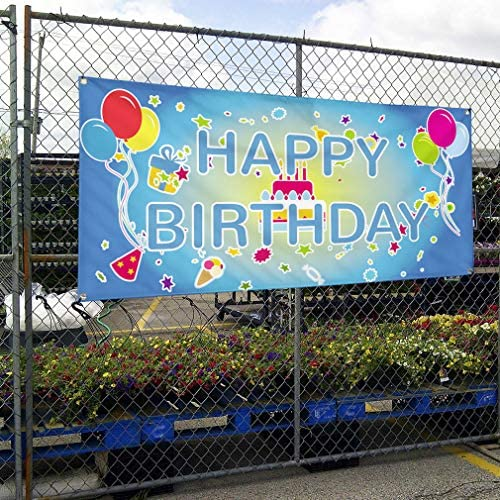vinyl banner: (65, 63, 486, 307)
